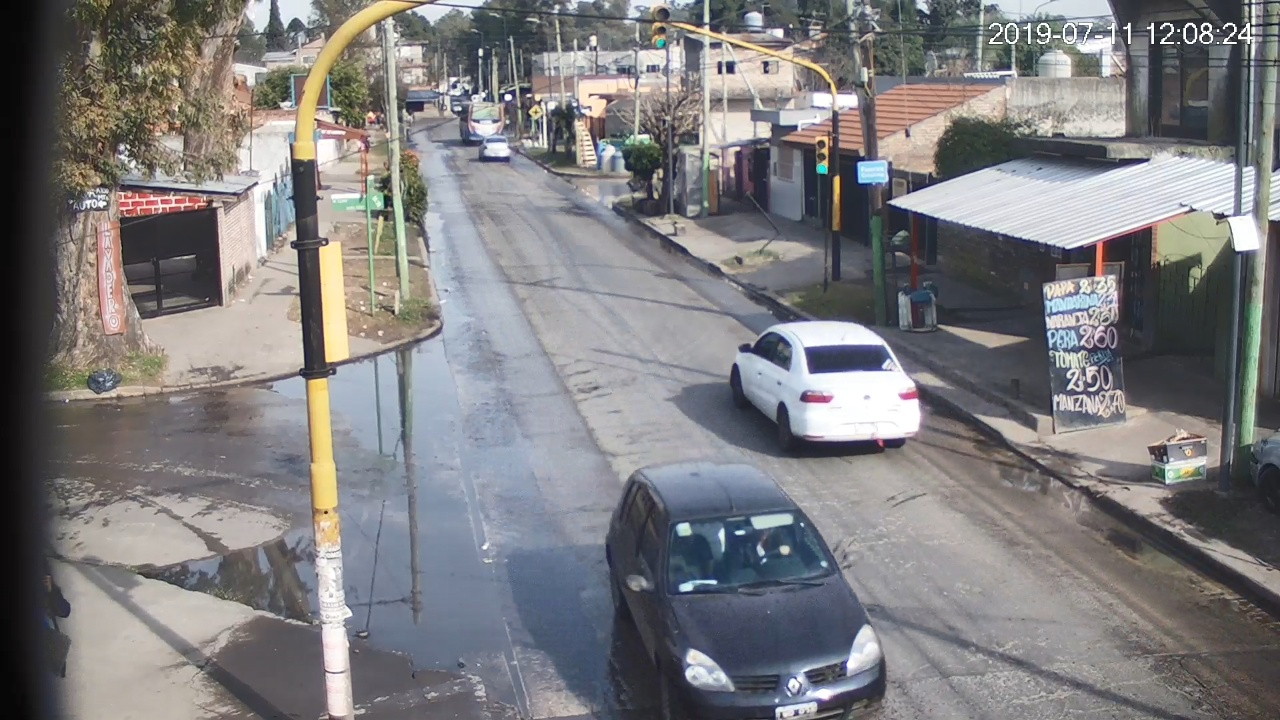car: (730, 321, 921, 450)
front car: (605, 461, 888, 719)
traffic light: (652, 5, 668, 48), (816, 137, 828, 174)
